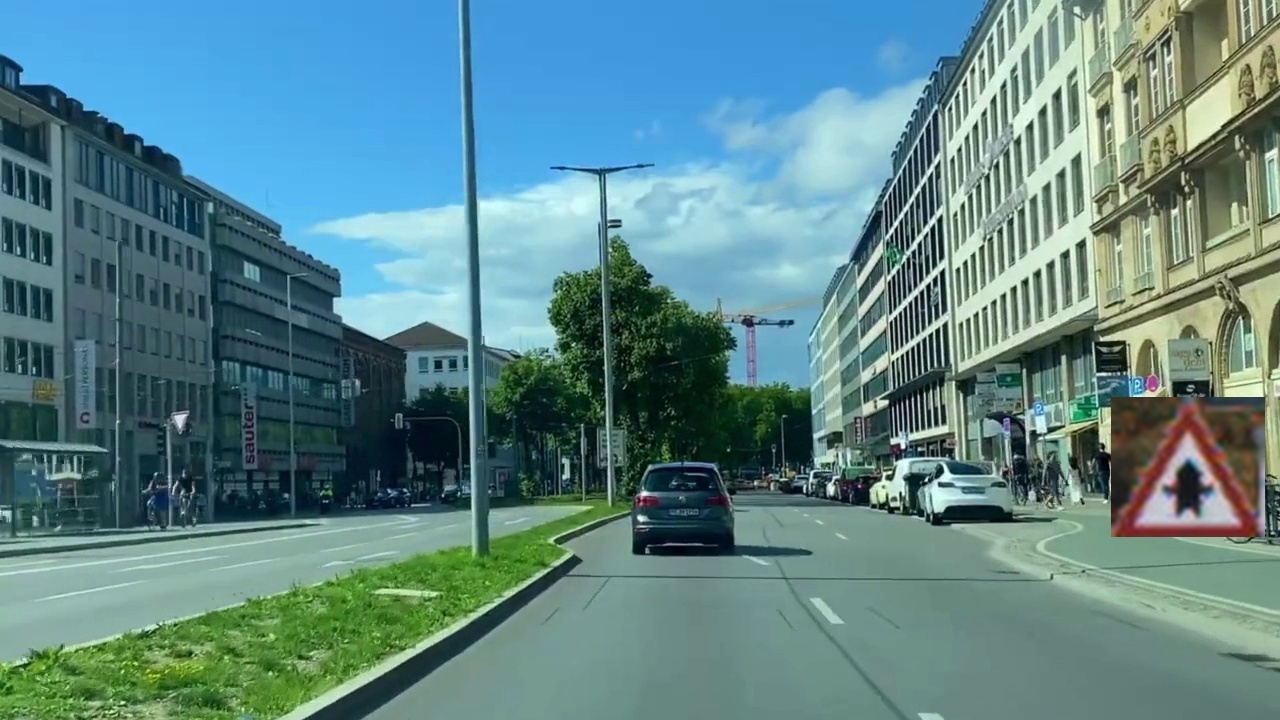Right-of-way: (1111, 397, 1265, 537)
